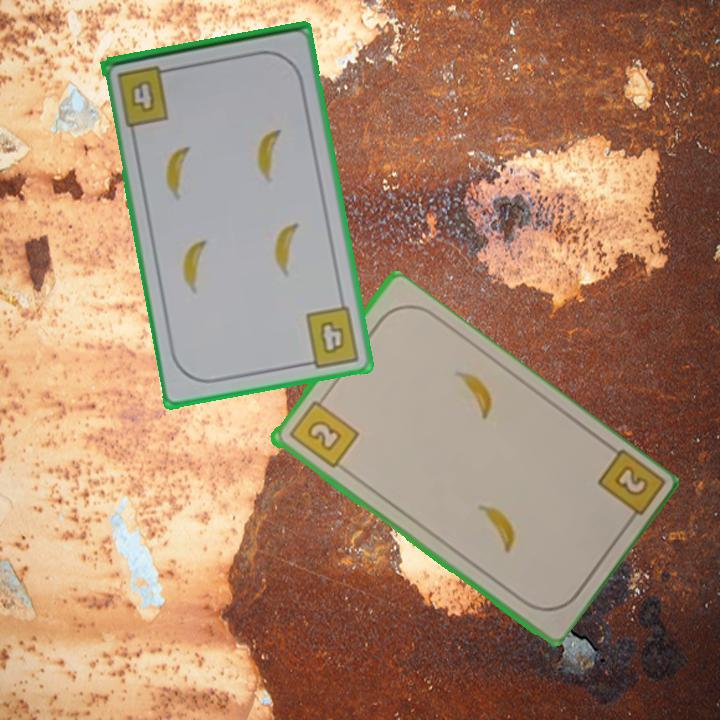2b: (285, 391, 361, 472), (593, 446, 664, 531)
4b: (299, 303, 363, 371), (113, 61, 177, 129)
